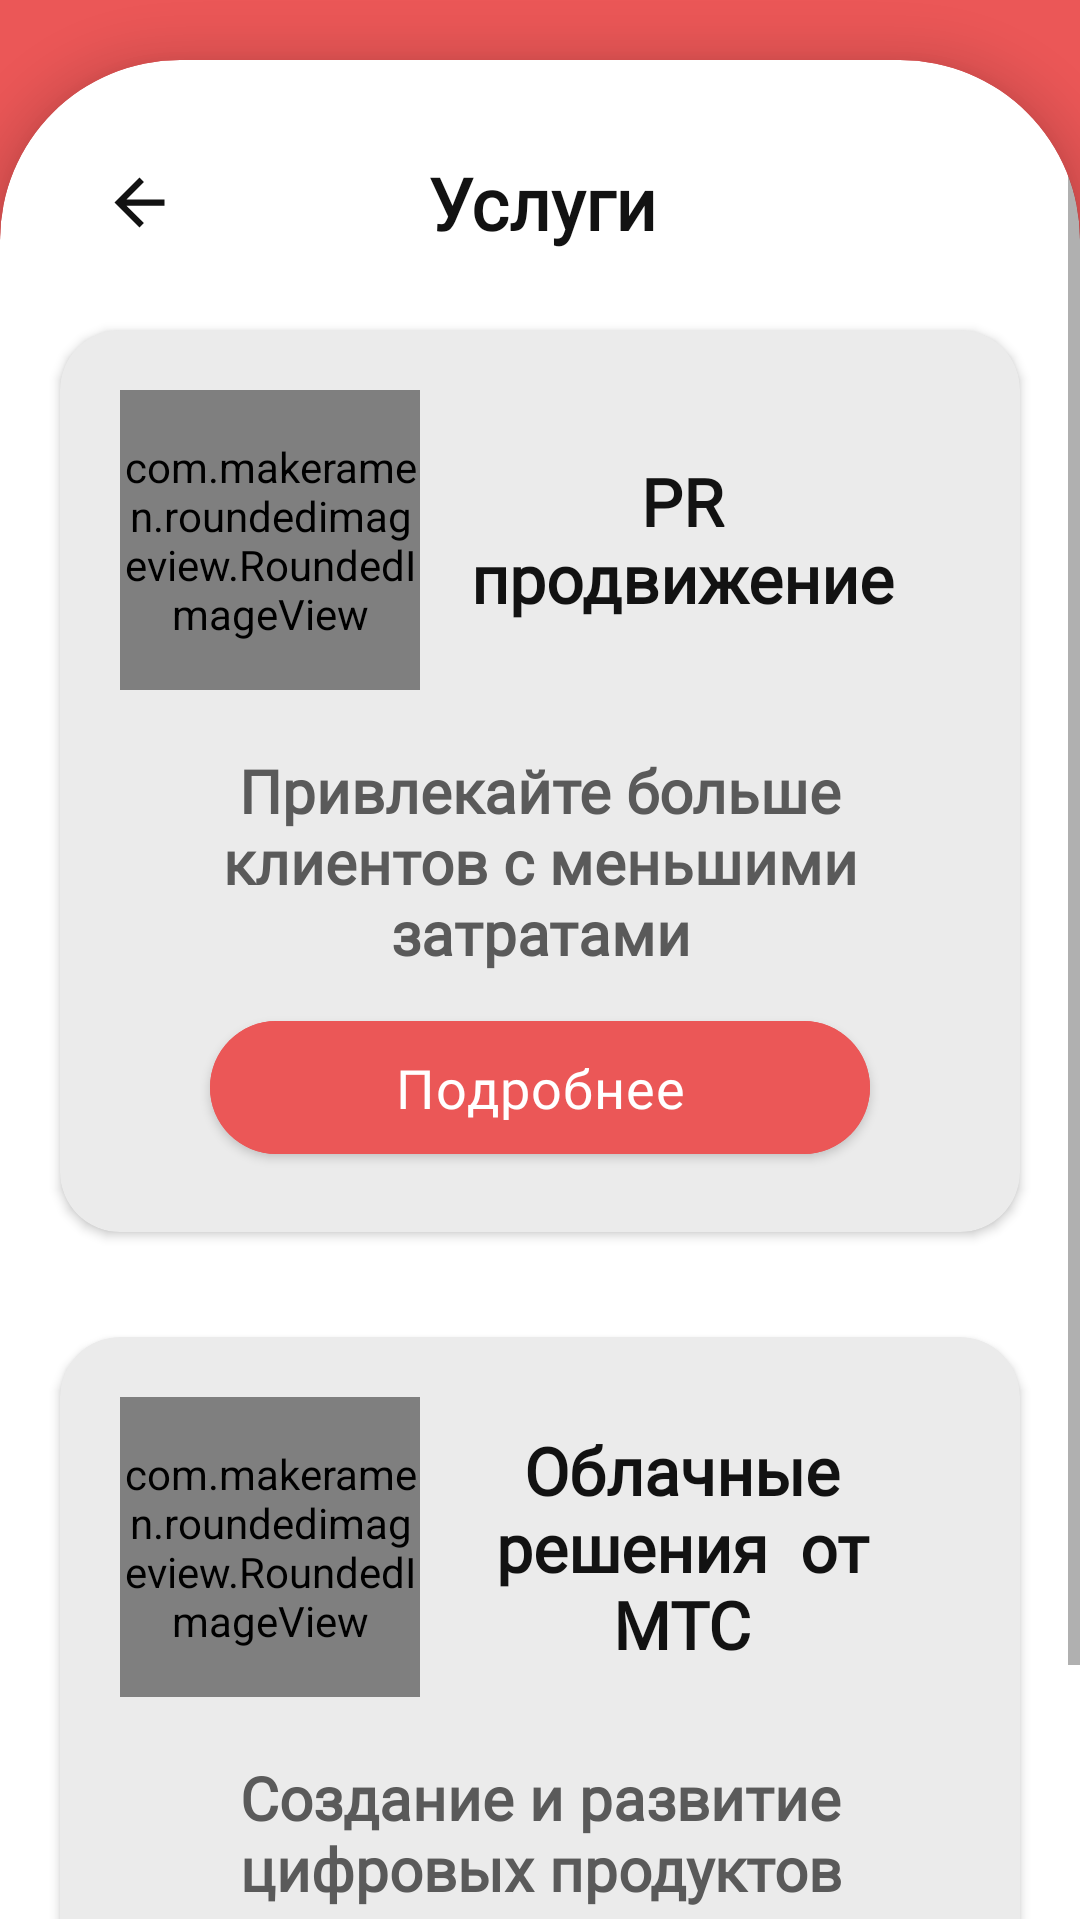

Point at icon controls on the screen. Image size 1080px x 1920px, points as point (x, y).
arrow back: point (139, 202)
